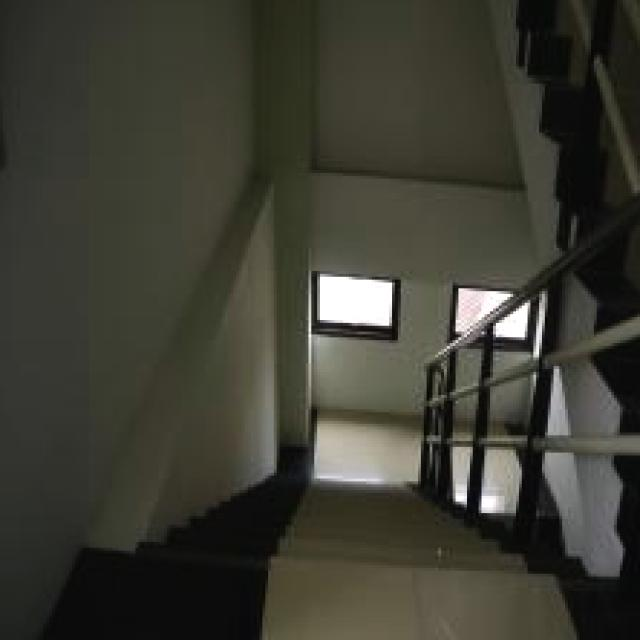downstair: (260, 474, 445, 635)
